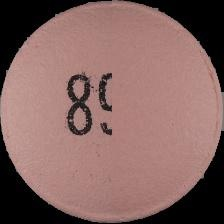53808-0806: (0, 0, 224, 224)
